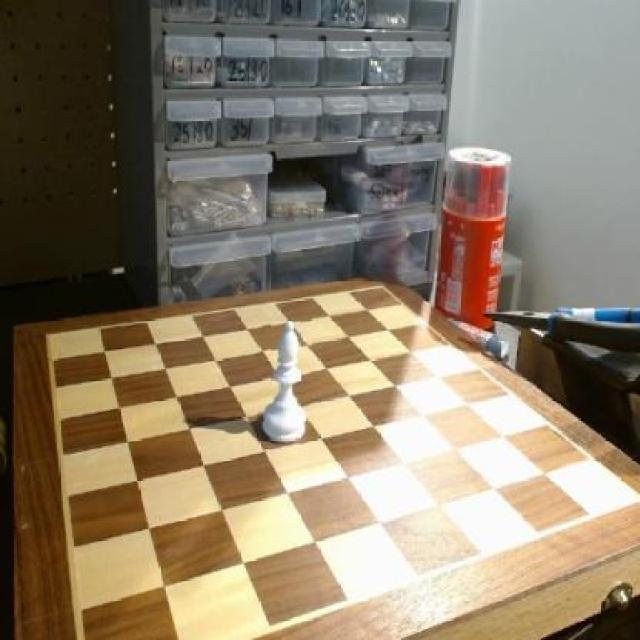black-rook: (258, 315, 312, 454)
